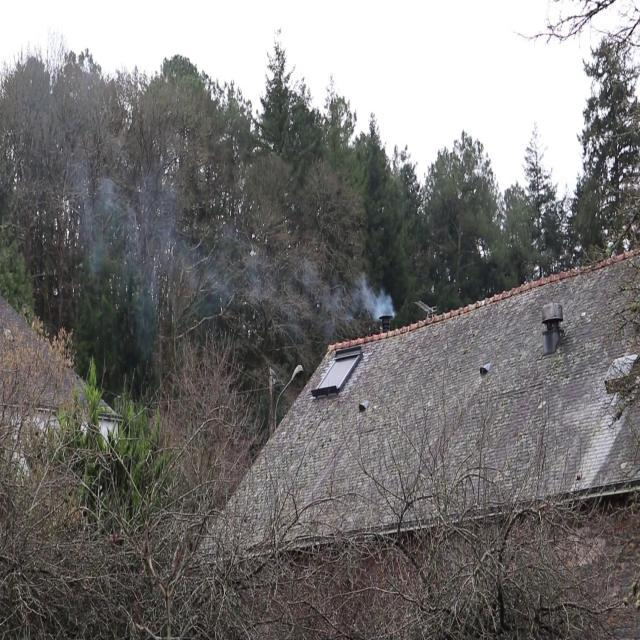Smoke: (350, 270, 397, 324)
